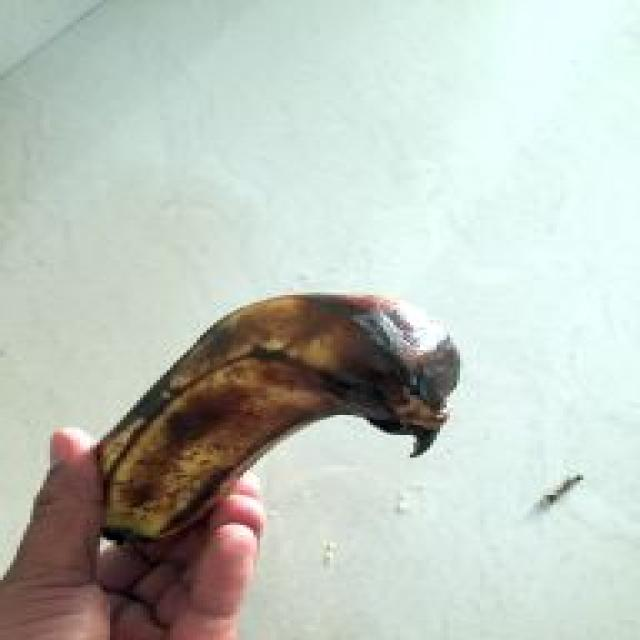Rotten: (37, 236, 497, 622)
